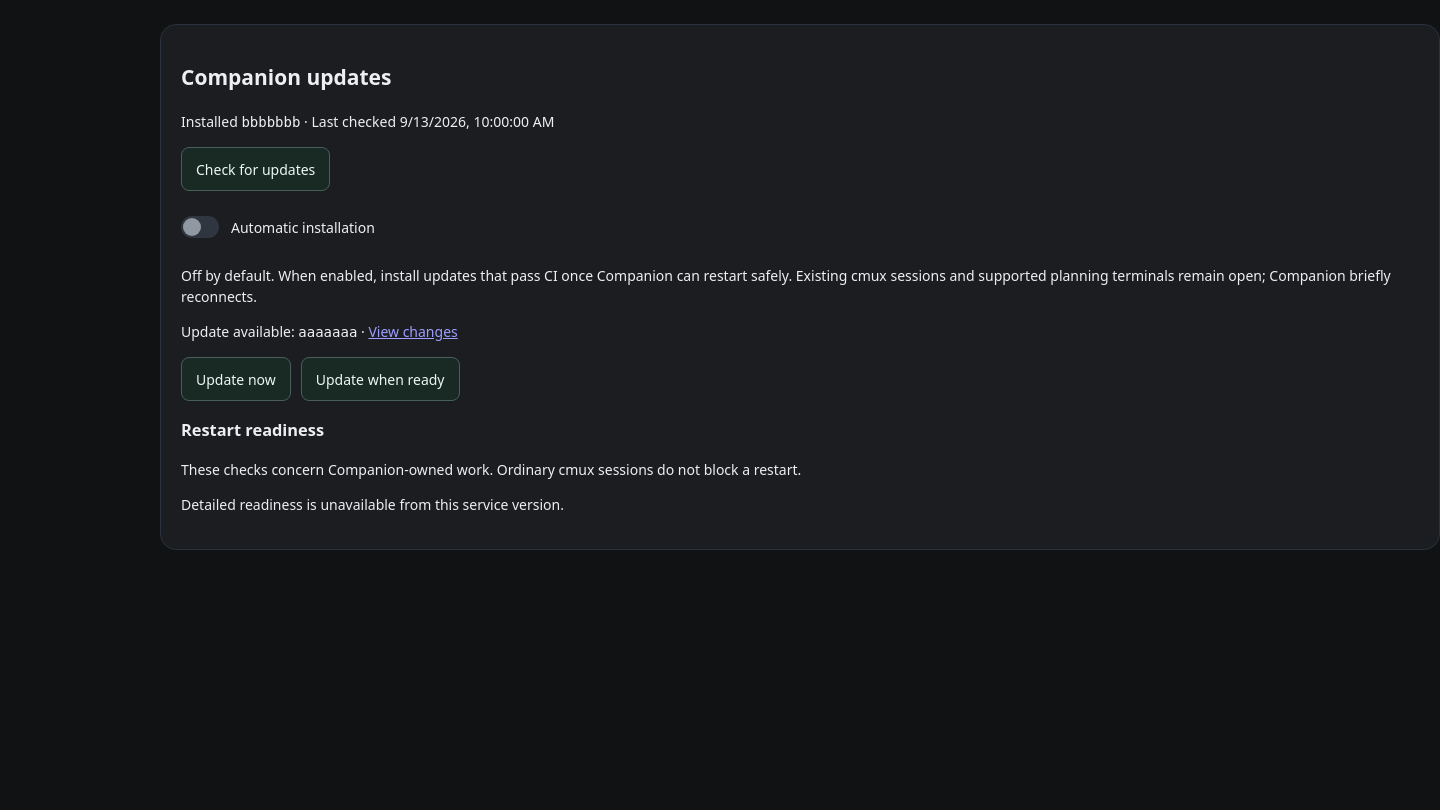
Test: manual installation pins the displayed commit, requires confirmation, then offers cancellation
Click the button "Update when ready".
click(380, 379)  # box [301, 357, 460, 401]
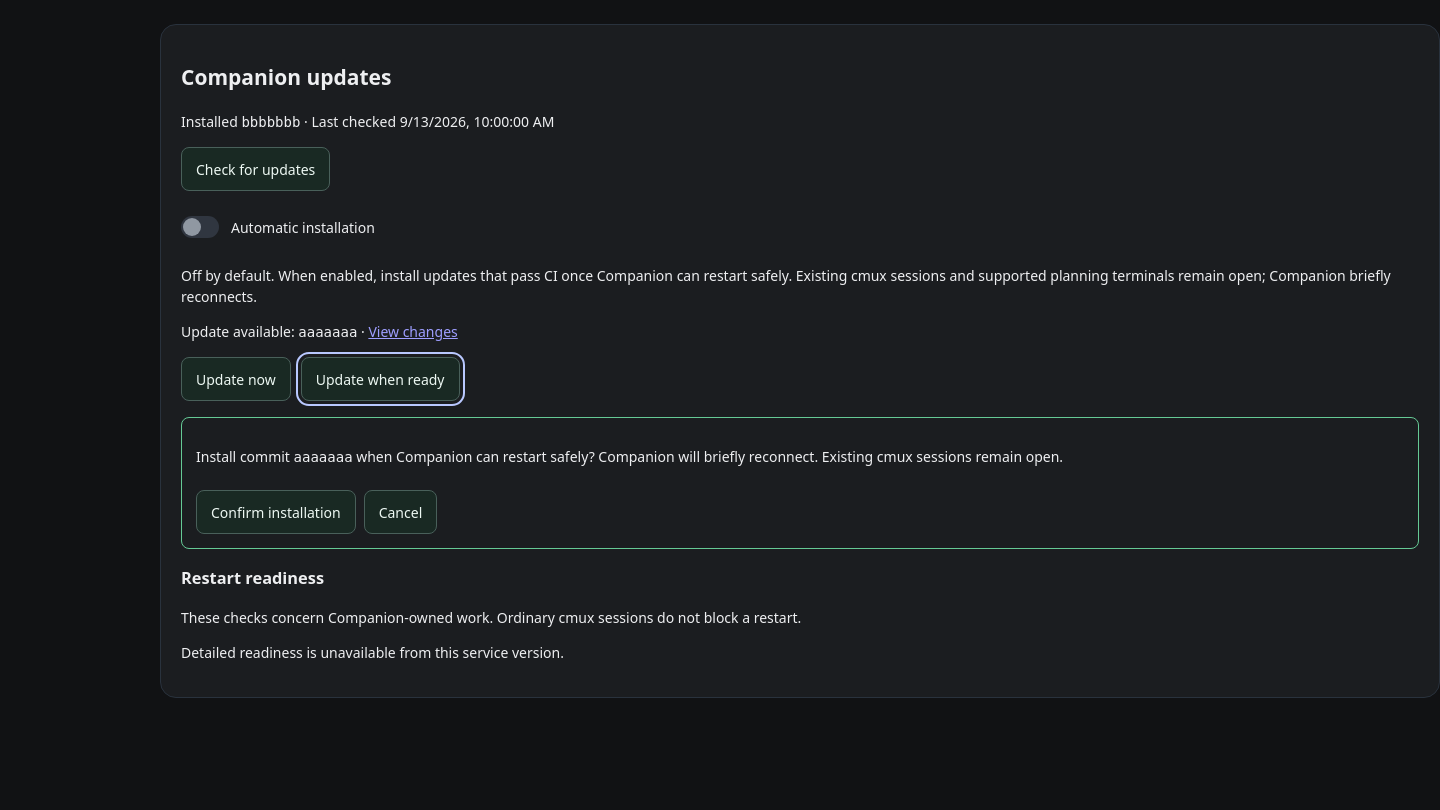
Result: the element named "Confirm update" is shown at [181, 417, 1419, 549]
Click the button "Cancel".
click(400, 512)  # box [364, 490, 437, 534]
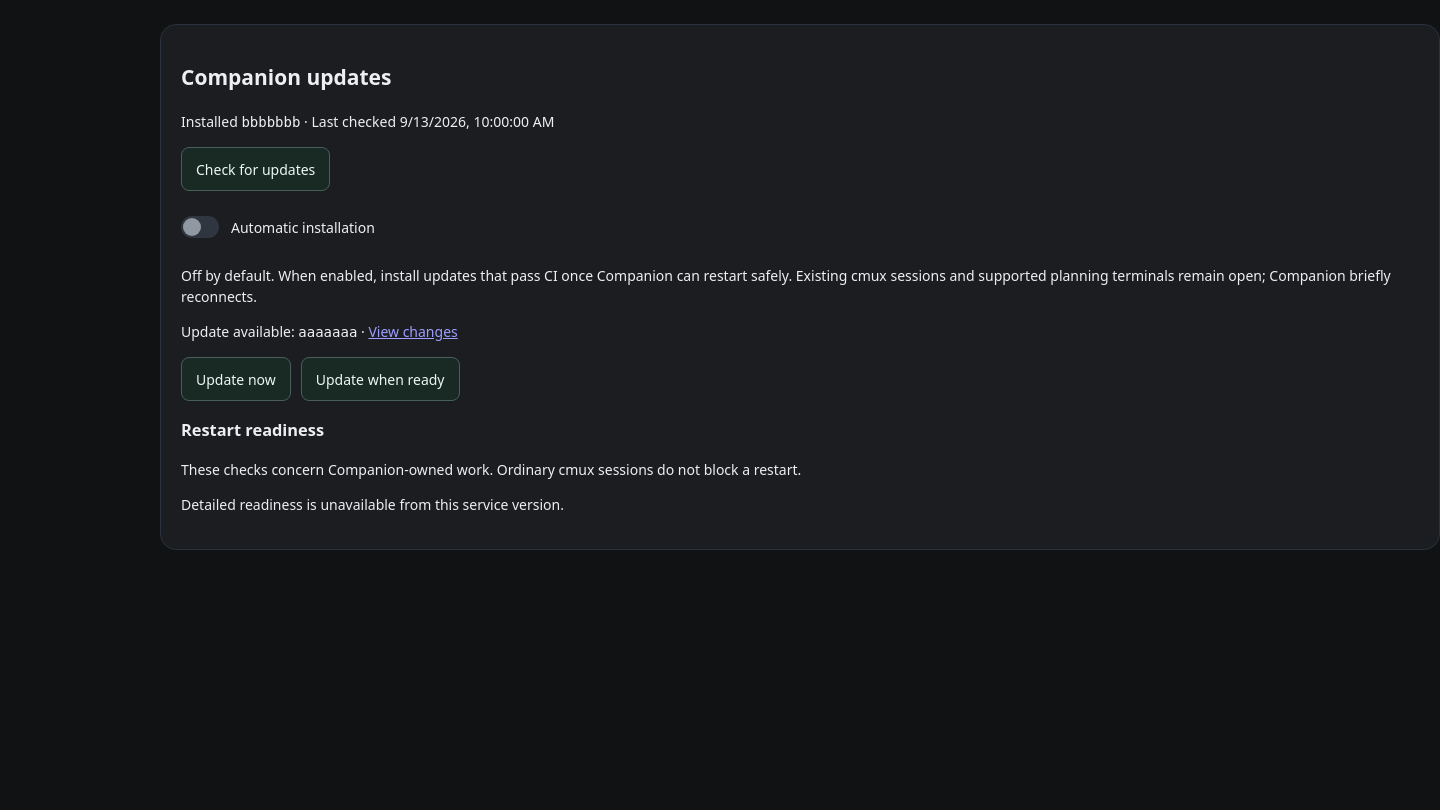
Click the button "Update now".
click(236, 379)  # box [181, 357, 291, 401]
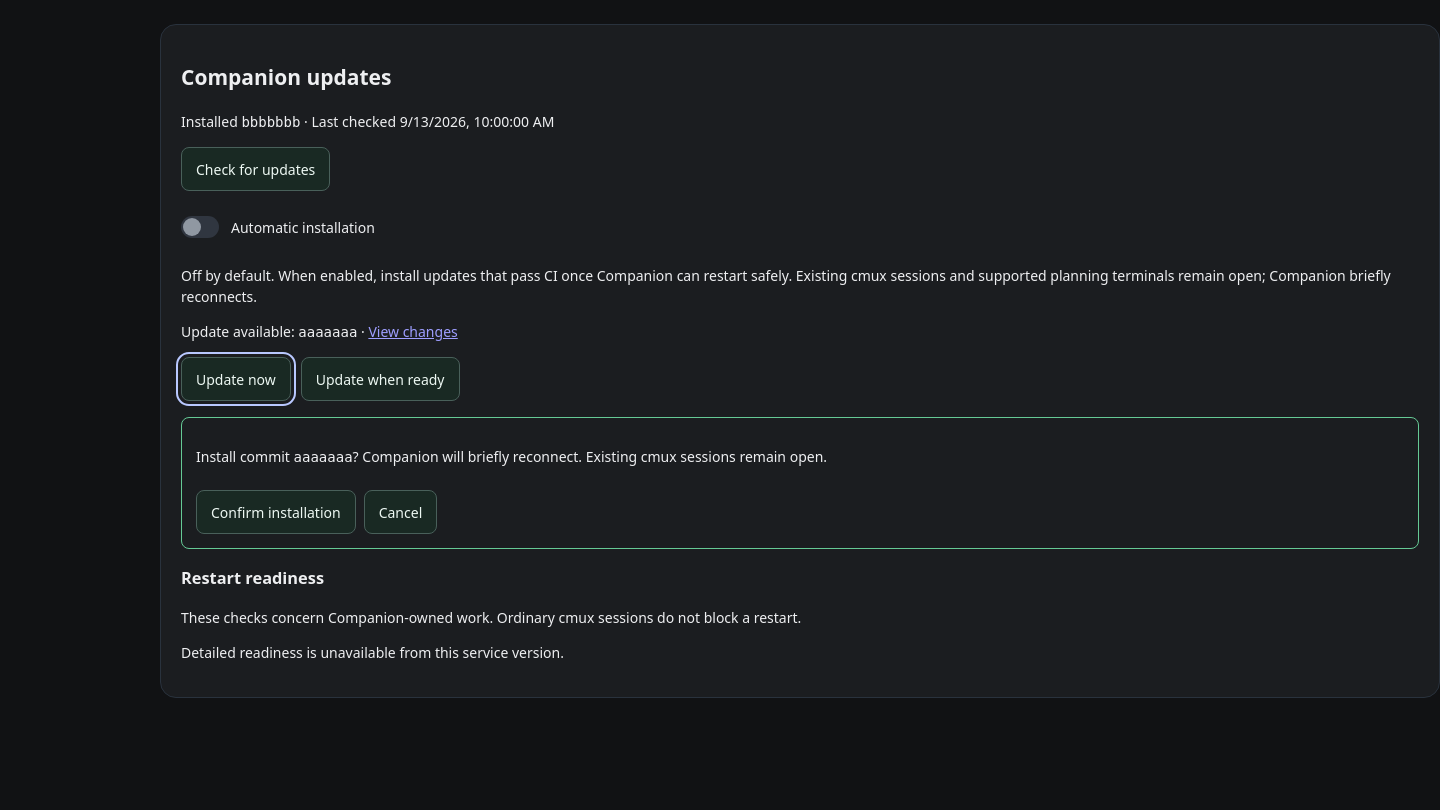
Click the button "Confirm installation".
click(276, 512)  # box [196, 490, 356, 534]
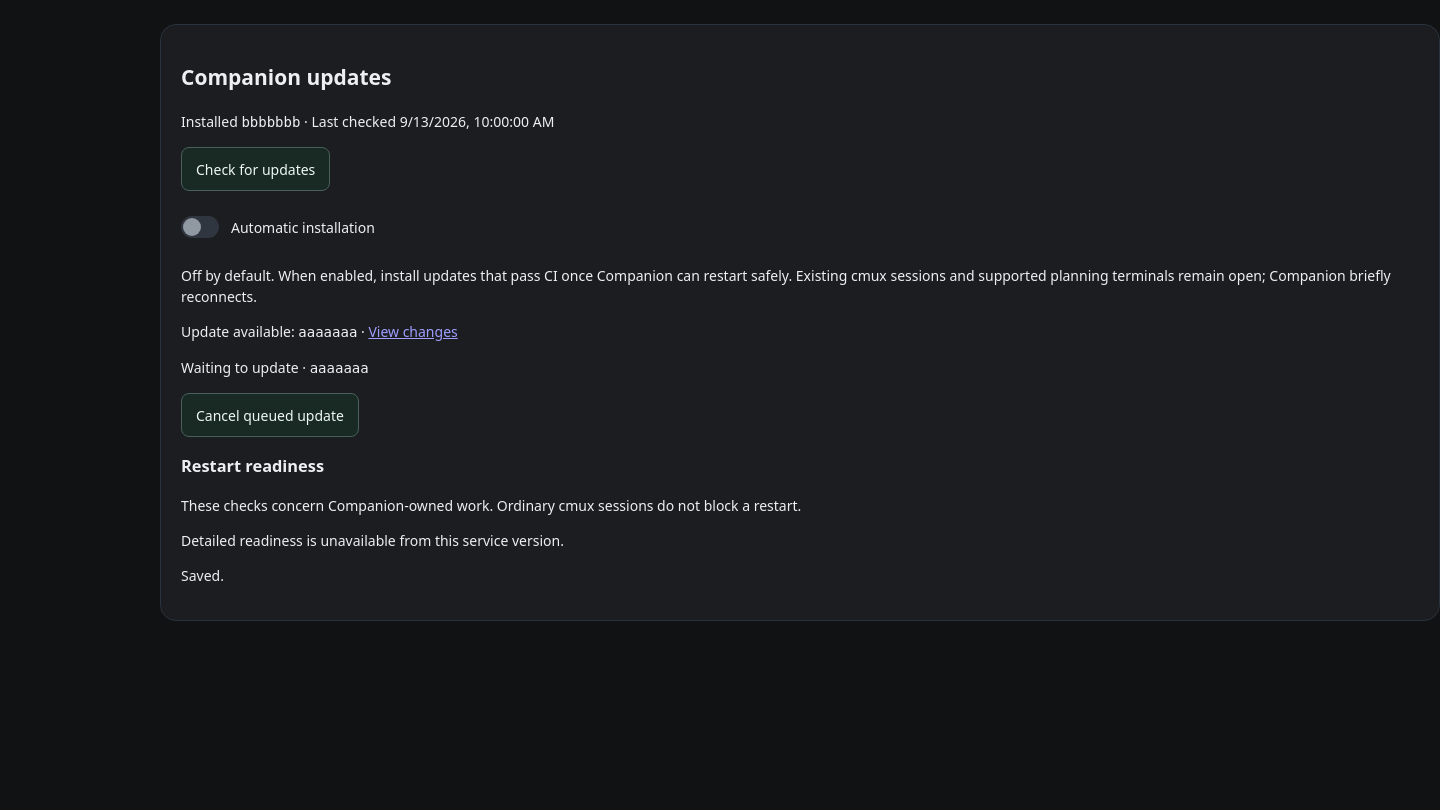
Click the button "Cancel queued update".
click(270, 415)  # box [181, 393, 359, 437]
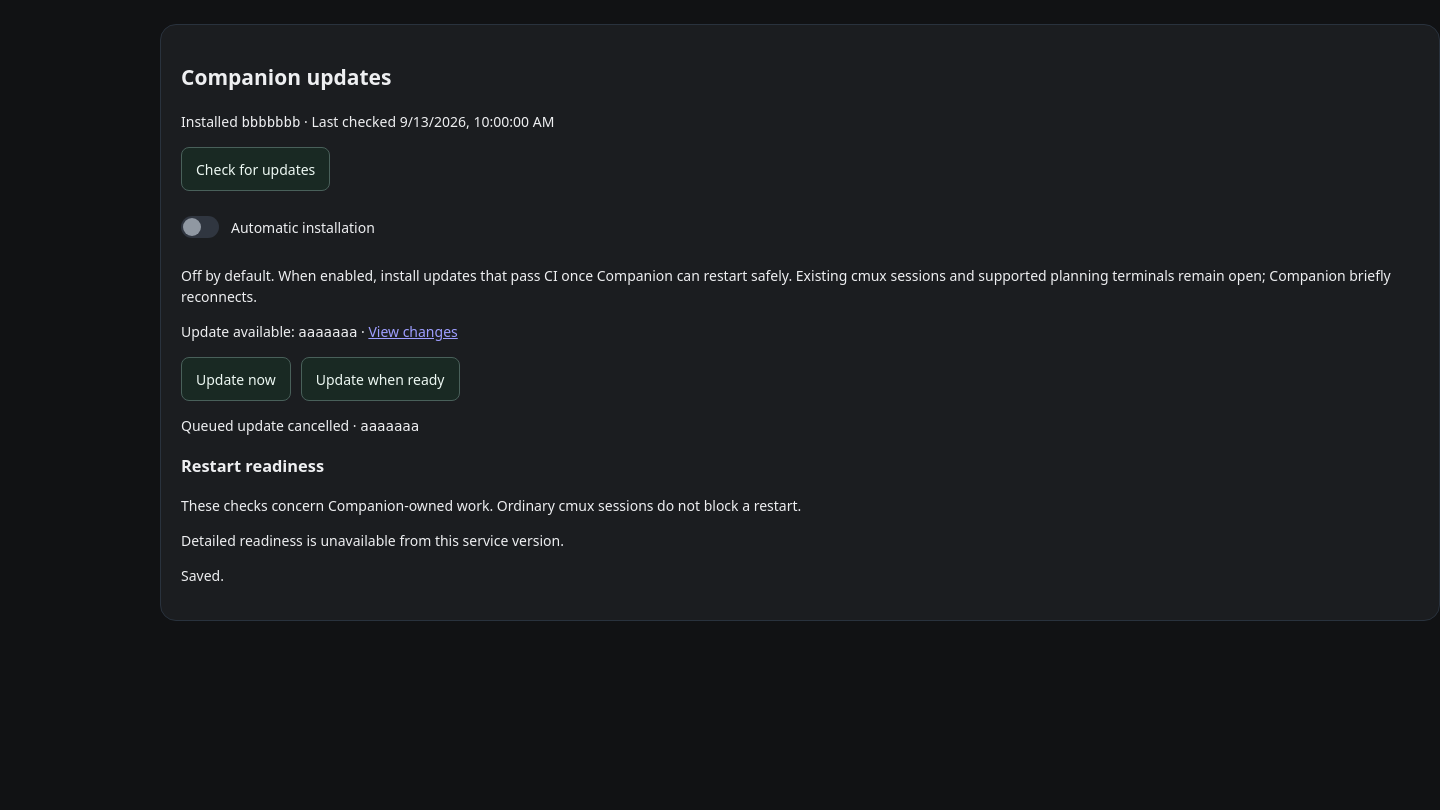
Result: the text "Queued update cancelled" is shown at [181, 416, 349, 435]
